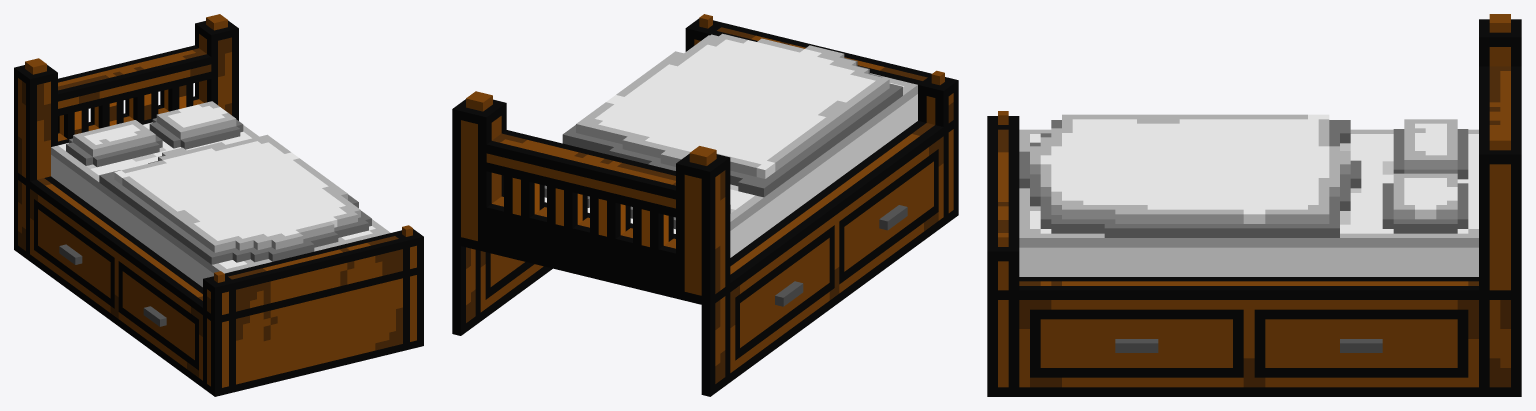
The model's file is SingleBed.obj.
3 views of the same model, side by side, from view 1: azimuth 30°, elevation 25°; view 2: azimuth 150°, elevation 25°; view 3: azimuth 270°, elevation 25° (orthographic). The views are drawn at different scales.
Visible parts, largest first — view 1: Bed; view 2: Bed; view 3: Bed.
Part boxes in pixels (left/top/right/bottom): Bed: left=14, top=14, right=423, bottom=396; Bed: left=452, top=14, right=958, bottom=396; Bed: left=987, top=14, right=1521, bottom=396.
Bounding box in the file's own units: 3.2 × 2.6 × 5.
1 material, 1 textured.
